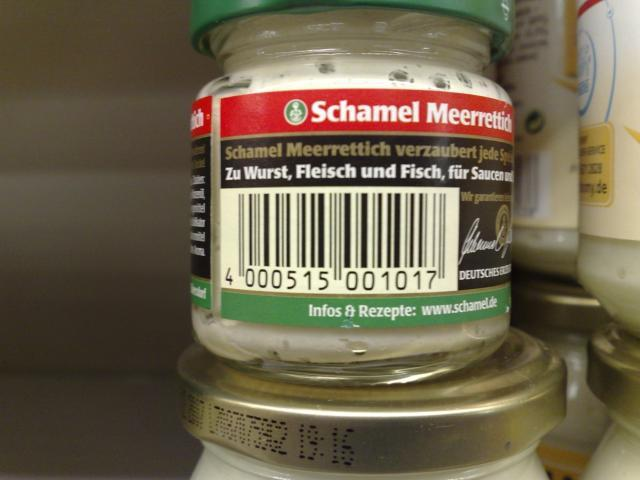Barcode: (221, 187, 458, 295)
